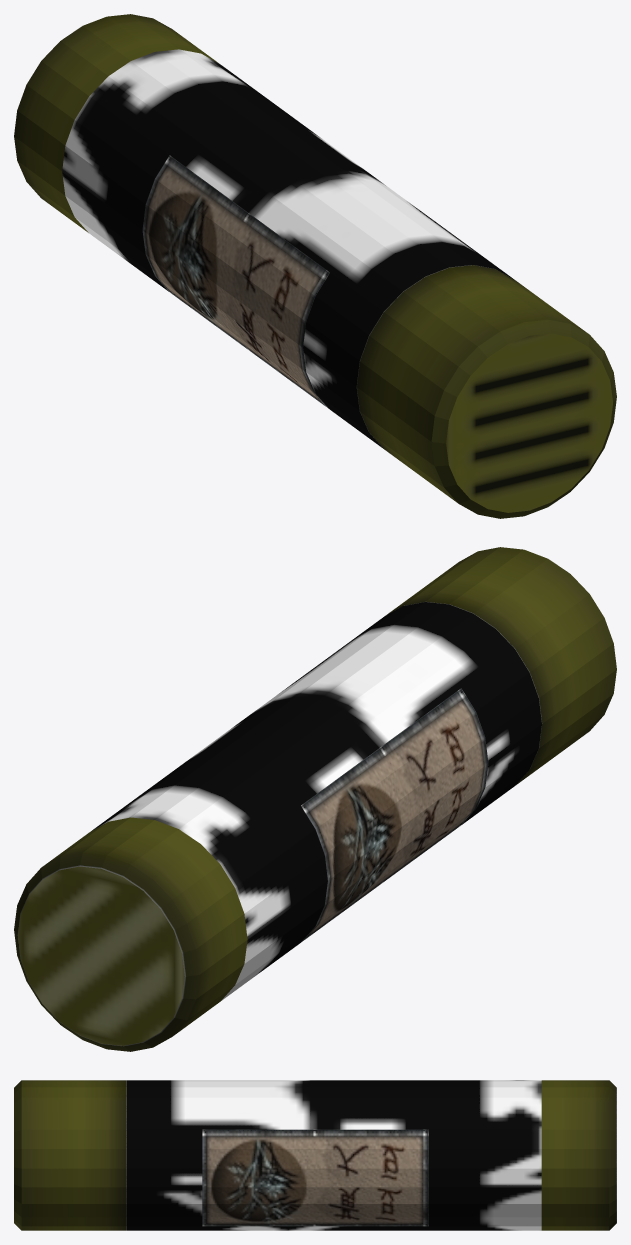
The picture shows the model from 3 angles, top to bottom: view 1: azimuth 30°, elevation 25°; view 2: azimuth 150°, elevation 25°; view 3: azimuth 270°, elevation 25°; orthographic projection. The views are drawn at different scales.
Visible parts, largest first — view 1: inn02, B_rastar, Object02, inn03, Deckel01; view 2: inn02, Deckel02, inn03, B_rastar, Deckel01; view 3: inn02, inn04, B_rastar, Deckel01.
Boxes of the visible parts, left/top/right/bottom form: inn02: left=62, top=49, right=512, bottom=448; B_rastar: left=356, top=265, right=616, bottom=518; Object02: left=446, top=333, right=612, bottom=512; inn03: left=142, top=155, right=329, bottom=409; Deckel01: left=14, top=14, right=218, bottom=232; inn02: left=91, top=602, right=541, bottom=1000; Deckel02: left=18, top=866, right=184, bottom=1045; inn03: left=301, top=688, right=488, bottom=942; B_rastar: left=384, top=547, right=616, bottom=785; Deckel01: left=14, top=817, right=247, bottom=1051; inn02: left=127, top=1080, right=541, bottom=1230; inn04: left=202, top=1129, right=428, bottom=1226; B_rastar: left=14, top=1080, right=126, bottom=1230; Deckel01: left=541, top=1080, right=616, bottom=1230.
Size of the model in its own units: 100 by 100 by 400.
Materials: 4 (3 with a texture image).
